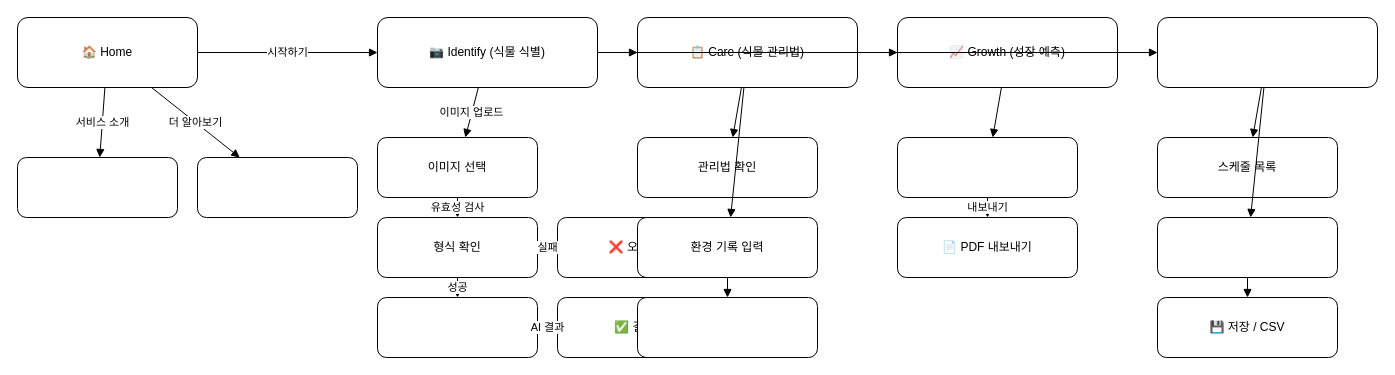
Image size: 1395x375. Some labels were removed from this diagram. The centre of each missing label's shape, as x and y in pixels:
새 스케줄 추가: point (1247, 247)
작동 방식 설명: point (277, 187)
주요 기능 안내: point (97, 187)
💾 저장: point (727, 327)
📅 우리아이: point (1267, 52)
📊 성장 차트: point (987, 167)
🤖 AI 식별 중: point (457, 327)
